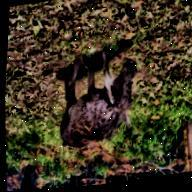boar: (52, 41, 144, 153)
